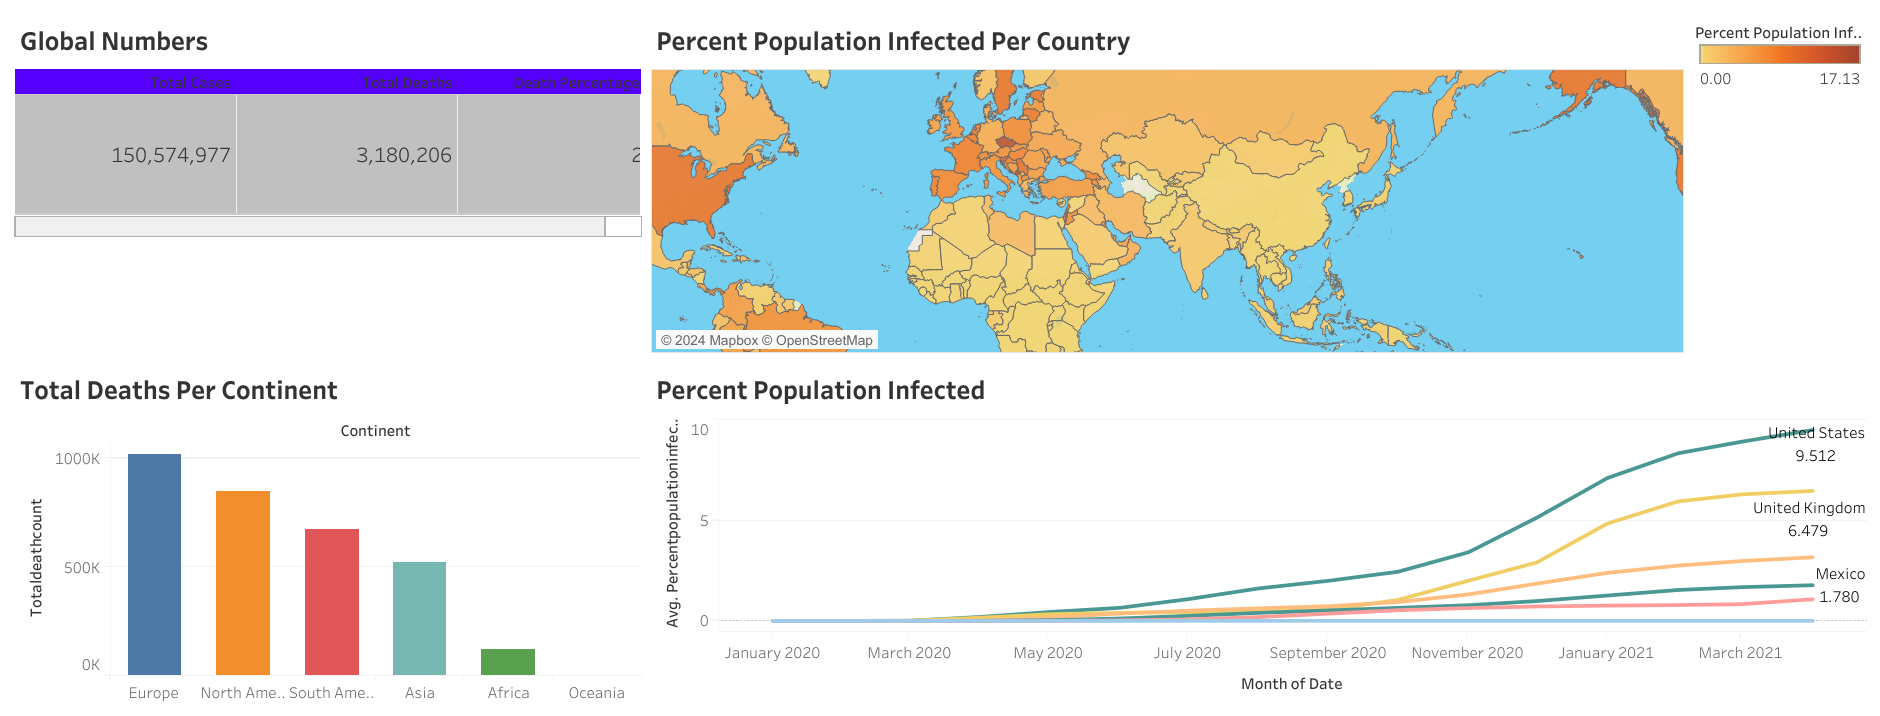

Layout of this report page (visuals, bound fields, positions):
{"tool":"tableau","page":{"name":"Dashboard 1","canvas":[1000,1000],"units":"permille","ordinal":0},"visuals":[{"type":"worksheet","title":"Sheet 1","mark":"Automatic","box":[4.8,9.4,338.6,490]},{"type":"worksheet","title":"Sheet 3","mark":"Automatic","box":[343.4,9.4,555.2,490]},{"type":"legend","title":"Sheet 3","param":"[federated.0kzz6ju1p1yjgl18tdgeu0ah74mm].[sum:percentpopulationinfected:qk]","box":[898.6,9.4,96.6,490]},{"type":"worksheet","title":"Sheet 2","mark":"Automatic","rows":["totaldeathcount"],"cols":["location"],"box":[4.8,499.4,338.6,491.2]},{"type":"worksheet","title":"Sheet 4","mark":"Automatic","rows":["percentpopulationinfected"],"cols":["date"],"box":[343.4,499.4,651.8,491.2]}]}

Visuals, with their boxes on the dashboard's canvas, which has no fixed pixel size, in thousandths of its width and height (x1, y1, x2, y2). These are canvas units, not pixel positions in the 1880x716 screenshot, which may show the page scaled, cropped or inside an application window:
"Sheet 1" worksheet: box(5, 9, 343, 499)
"Sheet 3" worksheet: box(343, 9, 899, 499)
"Sheet 3" legend: box(899, 9, 995, 499)
"Sheet 2" worksheet: box(5, 499, 343, 991)
"Sheet 4" worksheet: box(343, 499, 995, 991)
